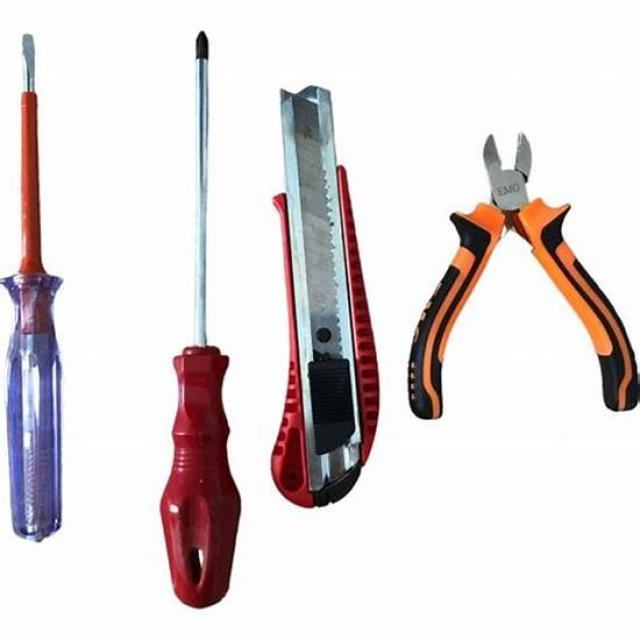Screwdriver: (160, 33, 240, 607)
